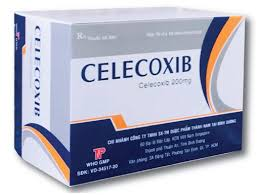Celecoxip: (81, 54, 190, 79), (33, 25, 44, 117)
